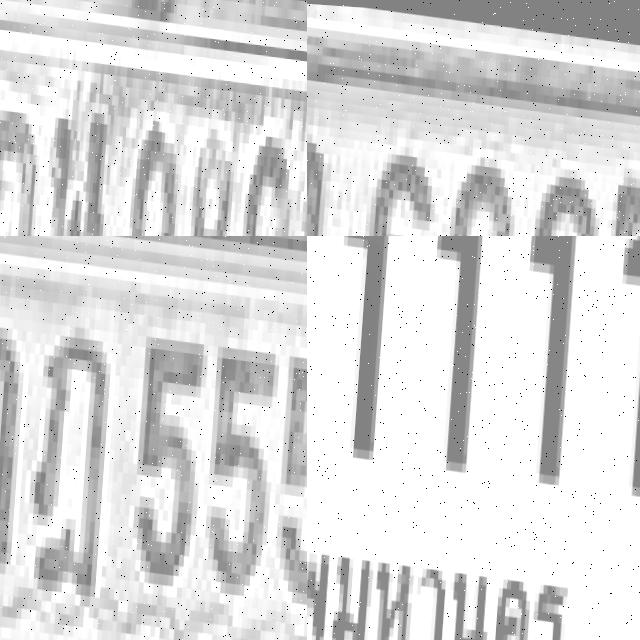license-plate: (307, 236, 640, 640), (0, 236, 307, 640), (307, 0, 640, 236), (0, 0, 307, 236)
